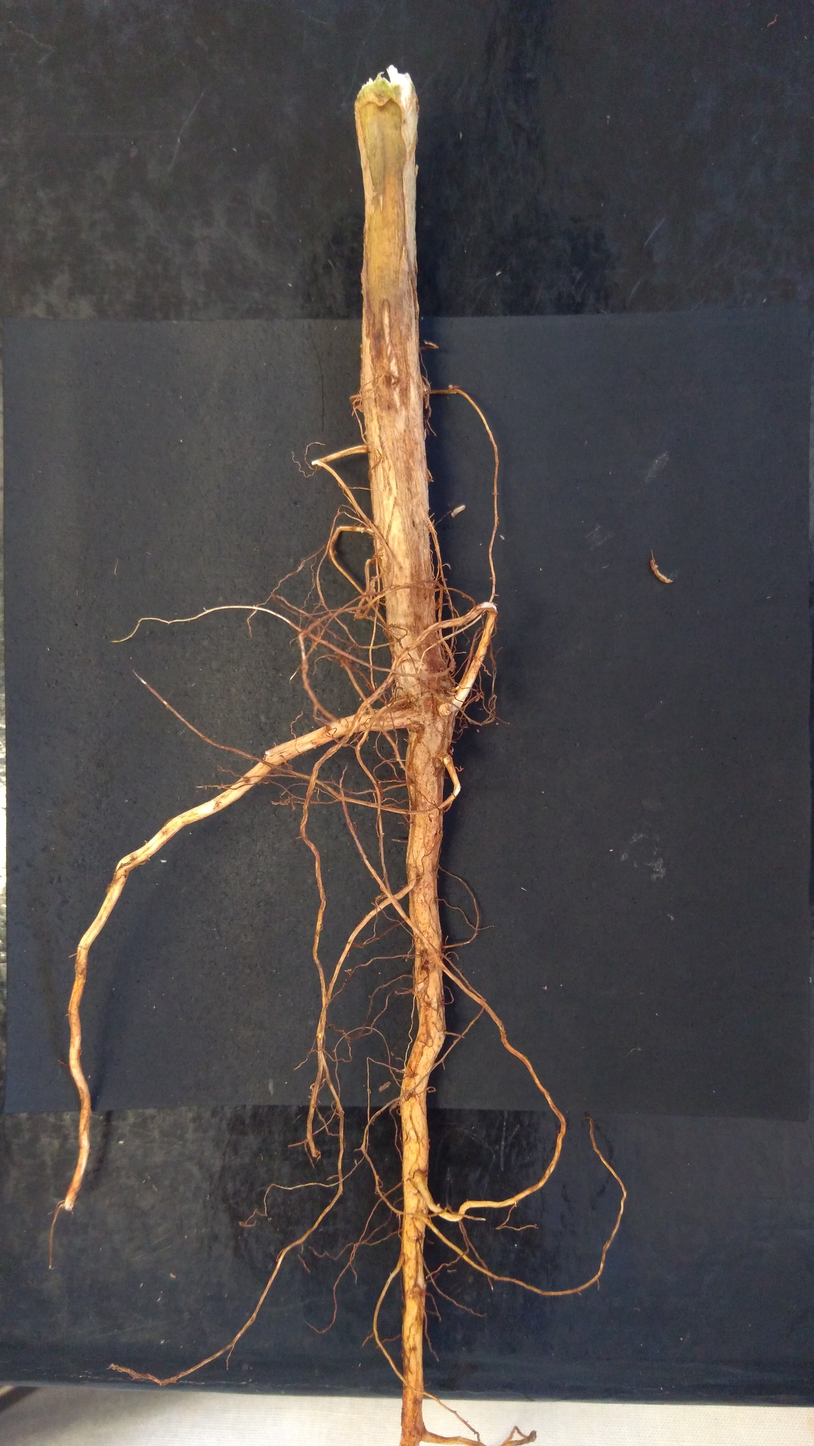nodule: (433, 691, 456, 717), (349, 393, 364, 413), (449, 660, 457, 672), (448, 384, 453, 390), (436, 1203, 440, 1207)
